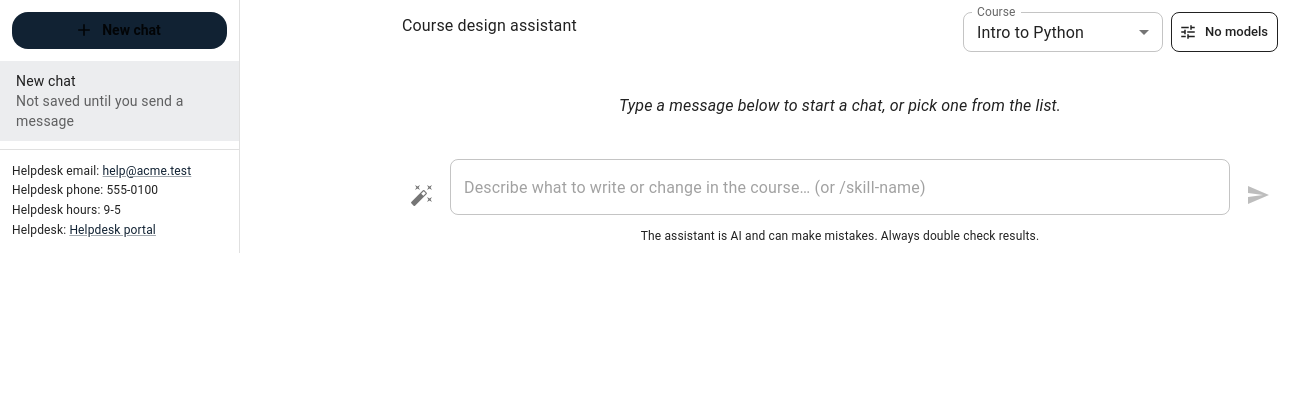
Test: Course Design chat tab › sends the chosen course, shows the changes it made, and asks the server for its own chat list
The image size is (1295, 393).
Expected: the dropdown reads "Intro to Python", x1=977 y1=22 x2=1084 y2=42
Type "add a loops lesson" into the text box named "Message". click: (840, 187)
box: x1=464 y1=176 x2=1216 y2=199
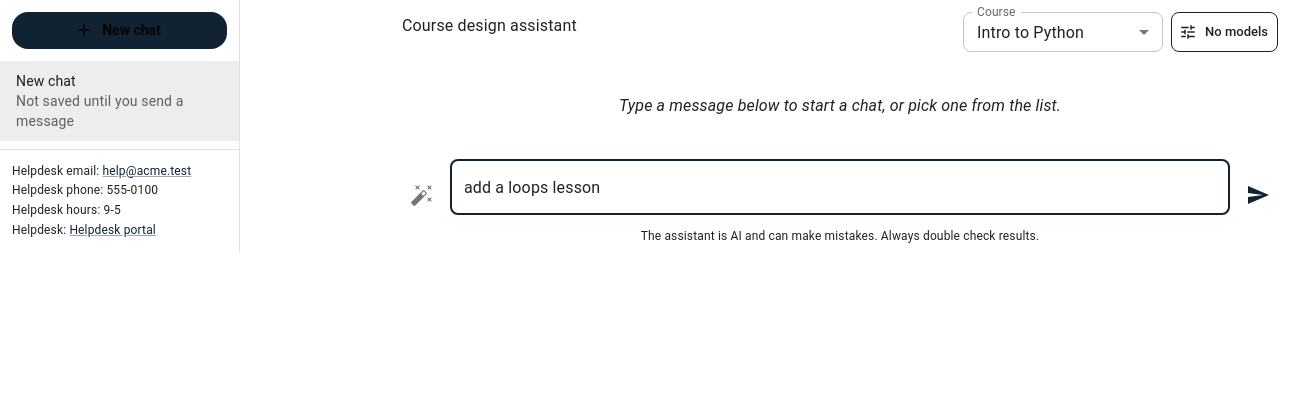
Click the button named "Send". click: click(1258, 195)
box: x1=1238 y1=175 x2=1278 y2=215
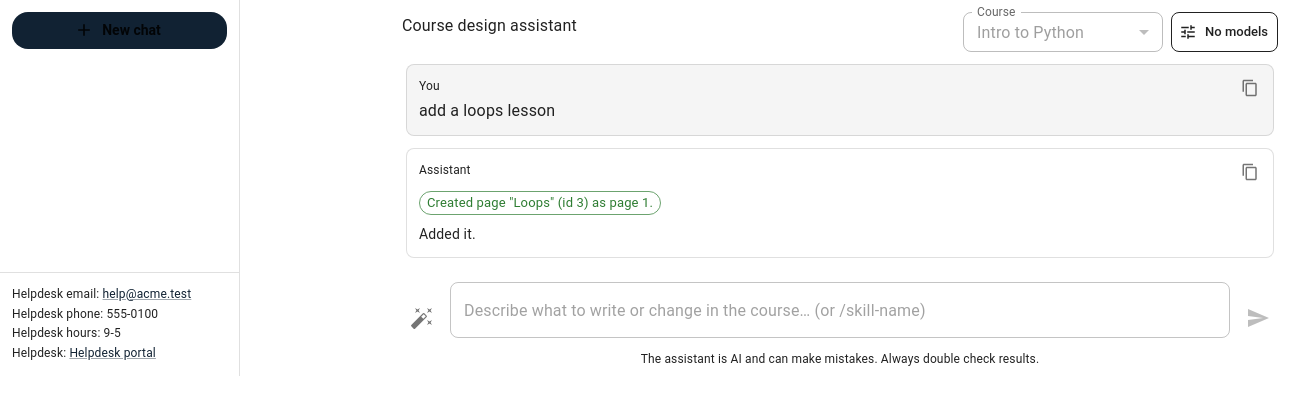
Now the text "Created page \"Loops\" (id 3) as page 1." is shown, box x1=420 y1=193 x2=660 y2=213
